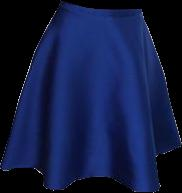Hemline: (0, 143, 181, 192)
Waistline: (62, 0, 140, 10)
